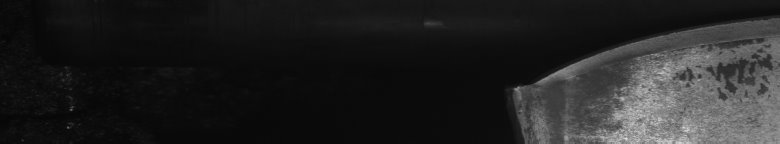kb: (543, 0, 776, 144)
